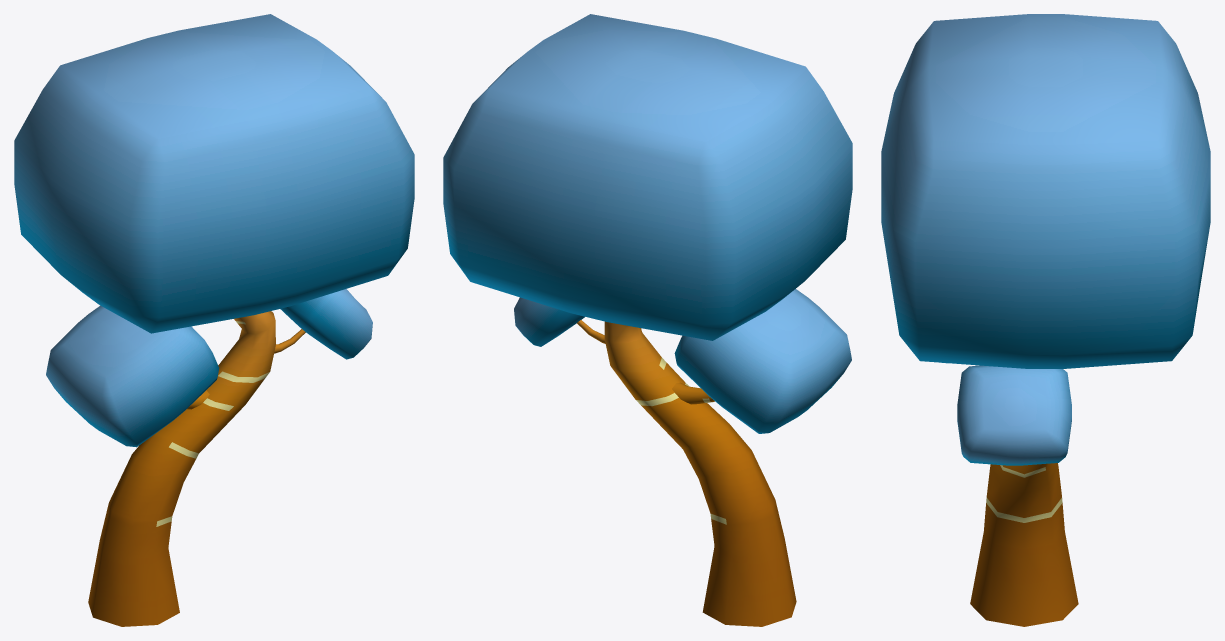
Rendered from blue-1.fbx.
3 renders of one model, left to right at view 1: azimuth 30°, elevation 25°; view 2: azimuth 150°, elevation 25°; view 3: azimuth 270°, elevation 25°, orthographic. The views are drawn at different scales.
Visible parts, largest first — view 1: Cylinder.009; view 2: Cylinder.009; view 3: Cylinder.009.
Boxes of the visible parts, x1,y1,x2,y2 form: Cylinder.009: (14, 14, 414, 626); Cylinder.009: (443, 14, 852, 626); Cylinder.009: (881, 14, 1210, 626).
Size of the model in its own units: 108 by 170 by 86.55.
